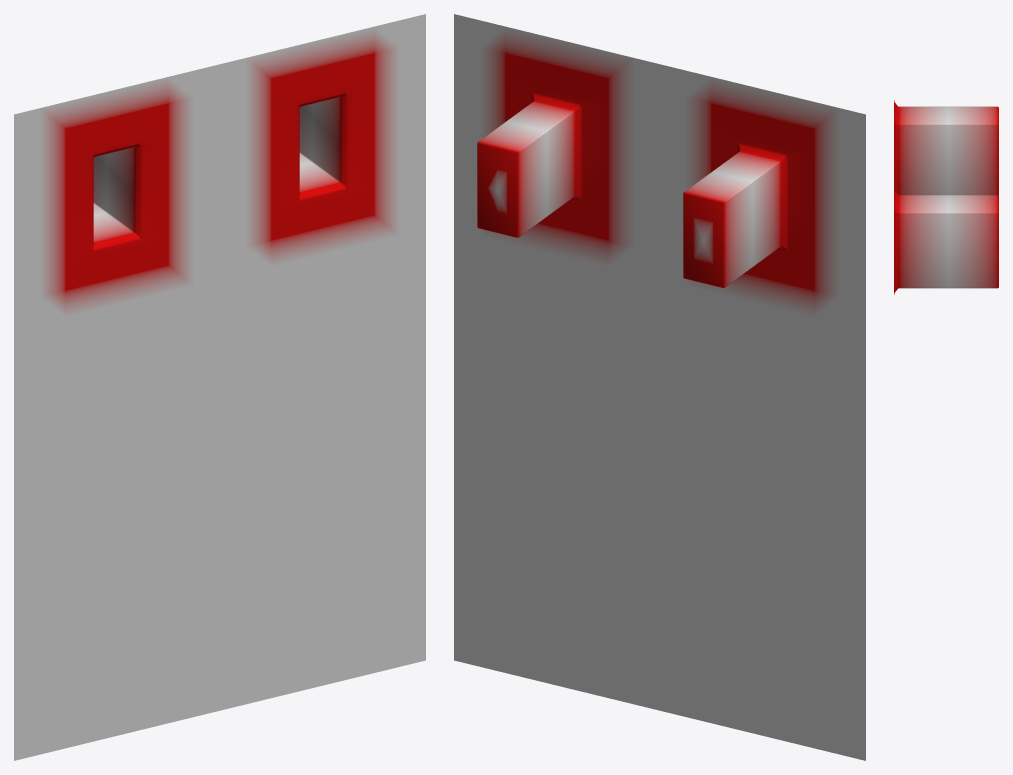
Rendered from wall_hole_200x300_01.fbx.
3 renders of one model, left to right at view 1: azimuth 30°, elevation 25°; view 2: azimuth 150°, elevation 25°; view 3: azimuth 270°, elevation 25°, orthographic. The views are drawn at different scales.
Parts seen in each view (by area): view 1: wall_hole_200x300_01; view 2: wall_hole_200x300_01; view 3: wall_hole_200x300_01.
Boxes of the visible parts, x1,y1,x2,y2 form: wall_hole_200x300_01: (14,14,425,760); wall_hole_200x300_01: (454,14,865,760); wall_hole_200x300_01: (894,100,998,294).
Size of the model in its own units: 2 by 3 by 0.5.
